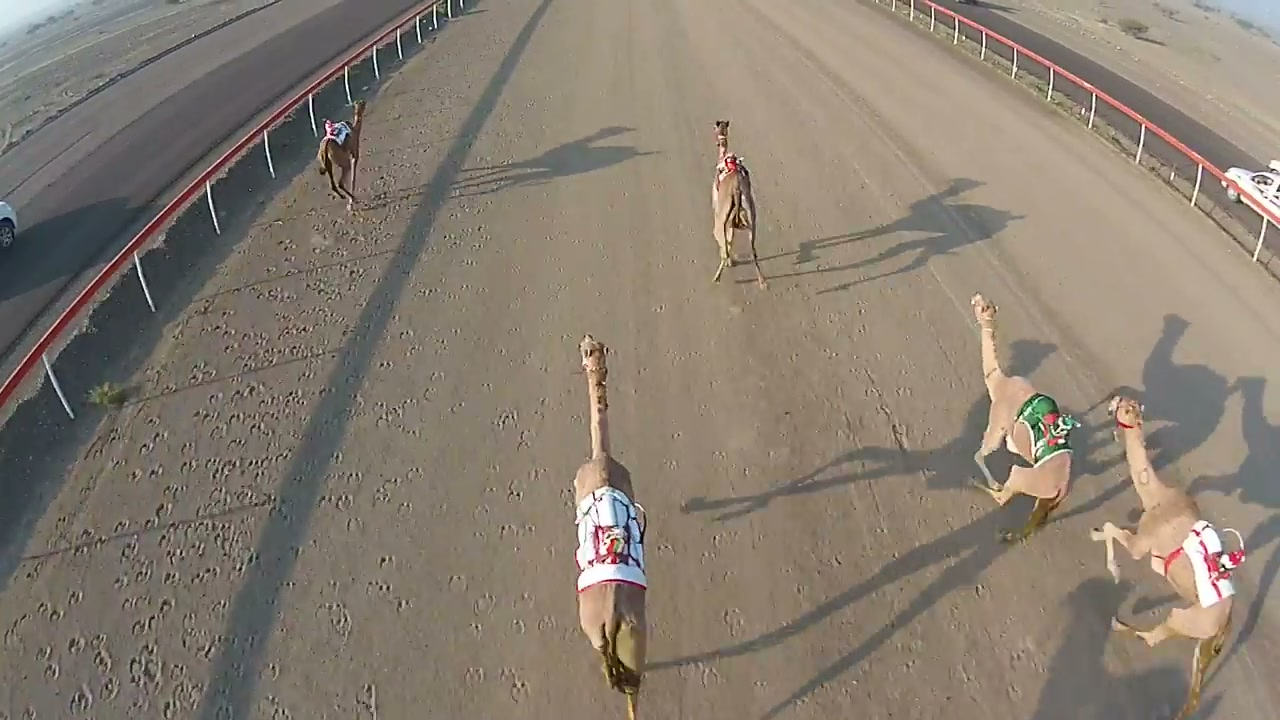animal_footprint: (29, 207, 368, 698)
